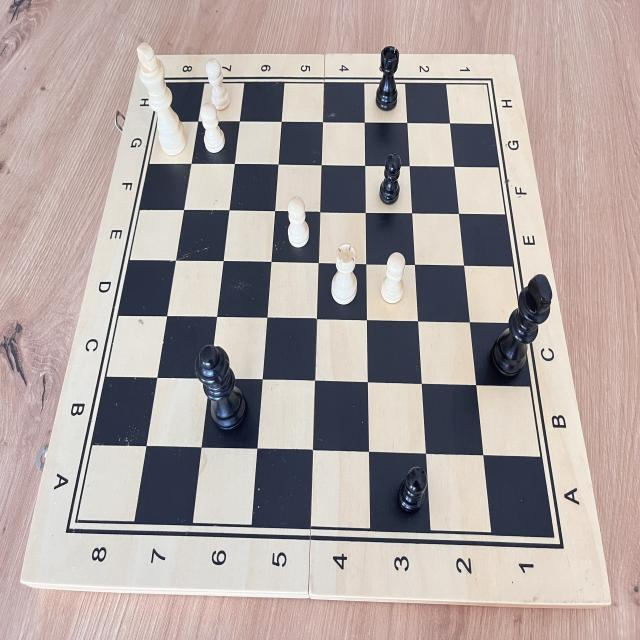black-king: (481, 265, 555, 395)
black-pawn: (389, 457, 432, 523), (372, 148, 407, 212)
black-queen: (187, 335, 256, 440)
black-rook: (372, 40, 404, 116)
white-king: (132, 36, 191, 163)
white-pawn: (278, 190, 316, 252), (201, 50, 237, 114), (375, 248, 410, 311), (195, 98, 228, 159)
white-rook: (326, 234, 364, 312)
